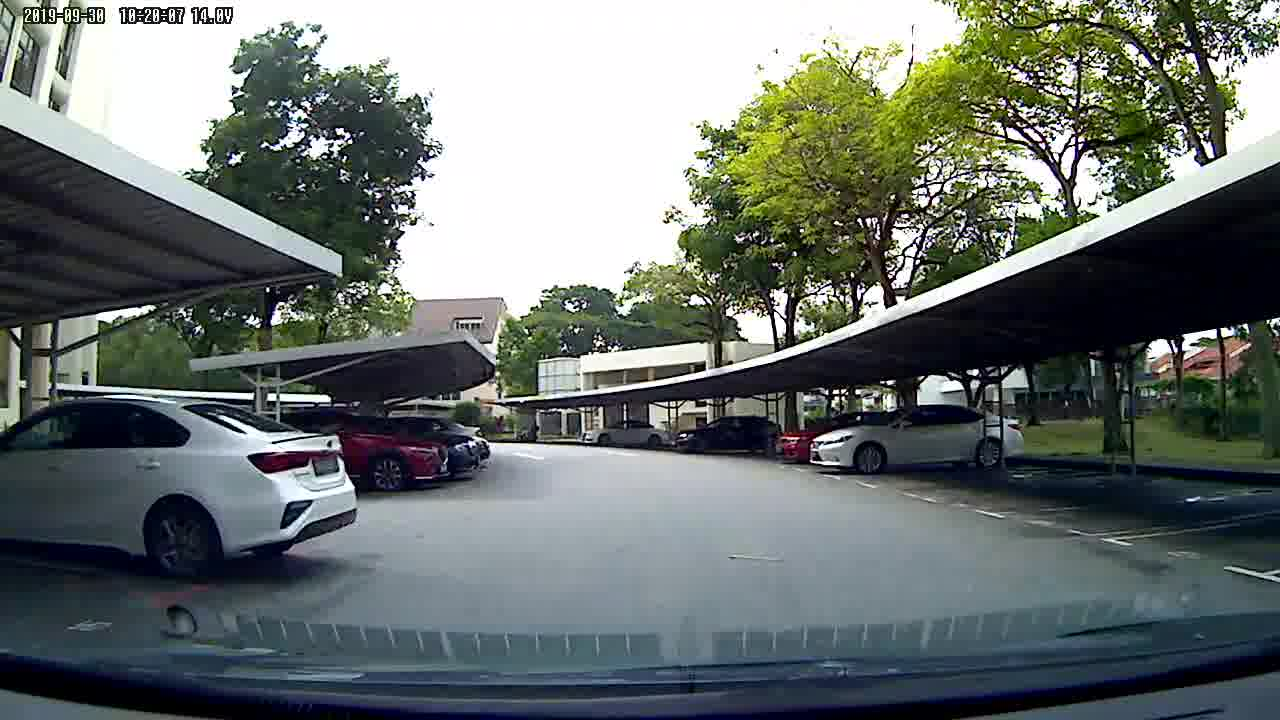car: (1, 391, 369, 588), (808, 401, 1030, 474), (344, 396, 495, 495), (672, 416, 782, 457), (573, 417, 673, 449)
